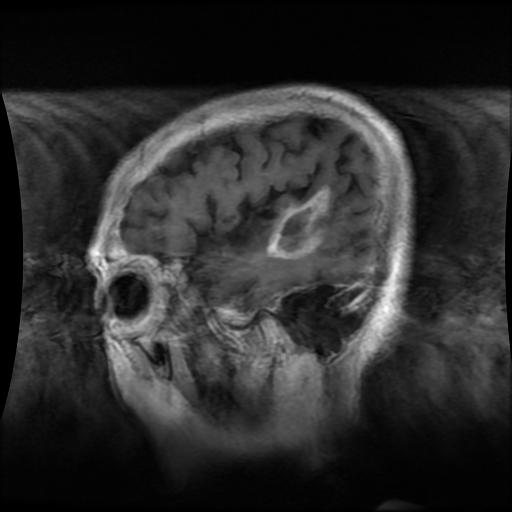Gliomia_tumour: (266, 183, 331, 258)
